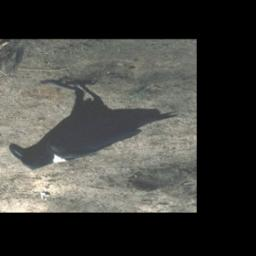Crow: (9, 77, 181, 172)
